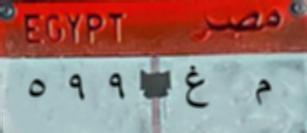5: (19, 74, 53, 108)
9: (63, 65, 94, 112), (103, 70, 136, 104)
ghayn: (178, 63, 213, 112)
meem: (245, 75, 278, 113)
